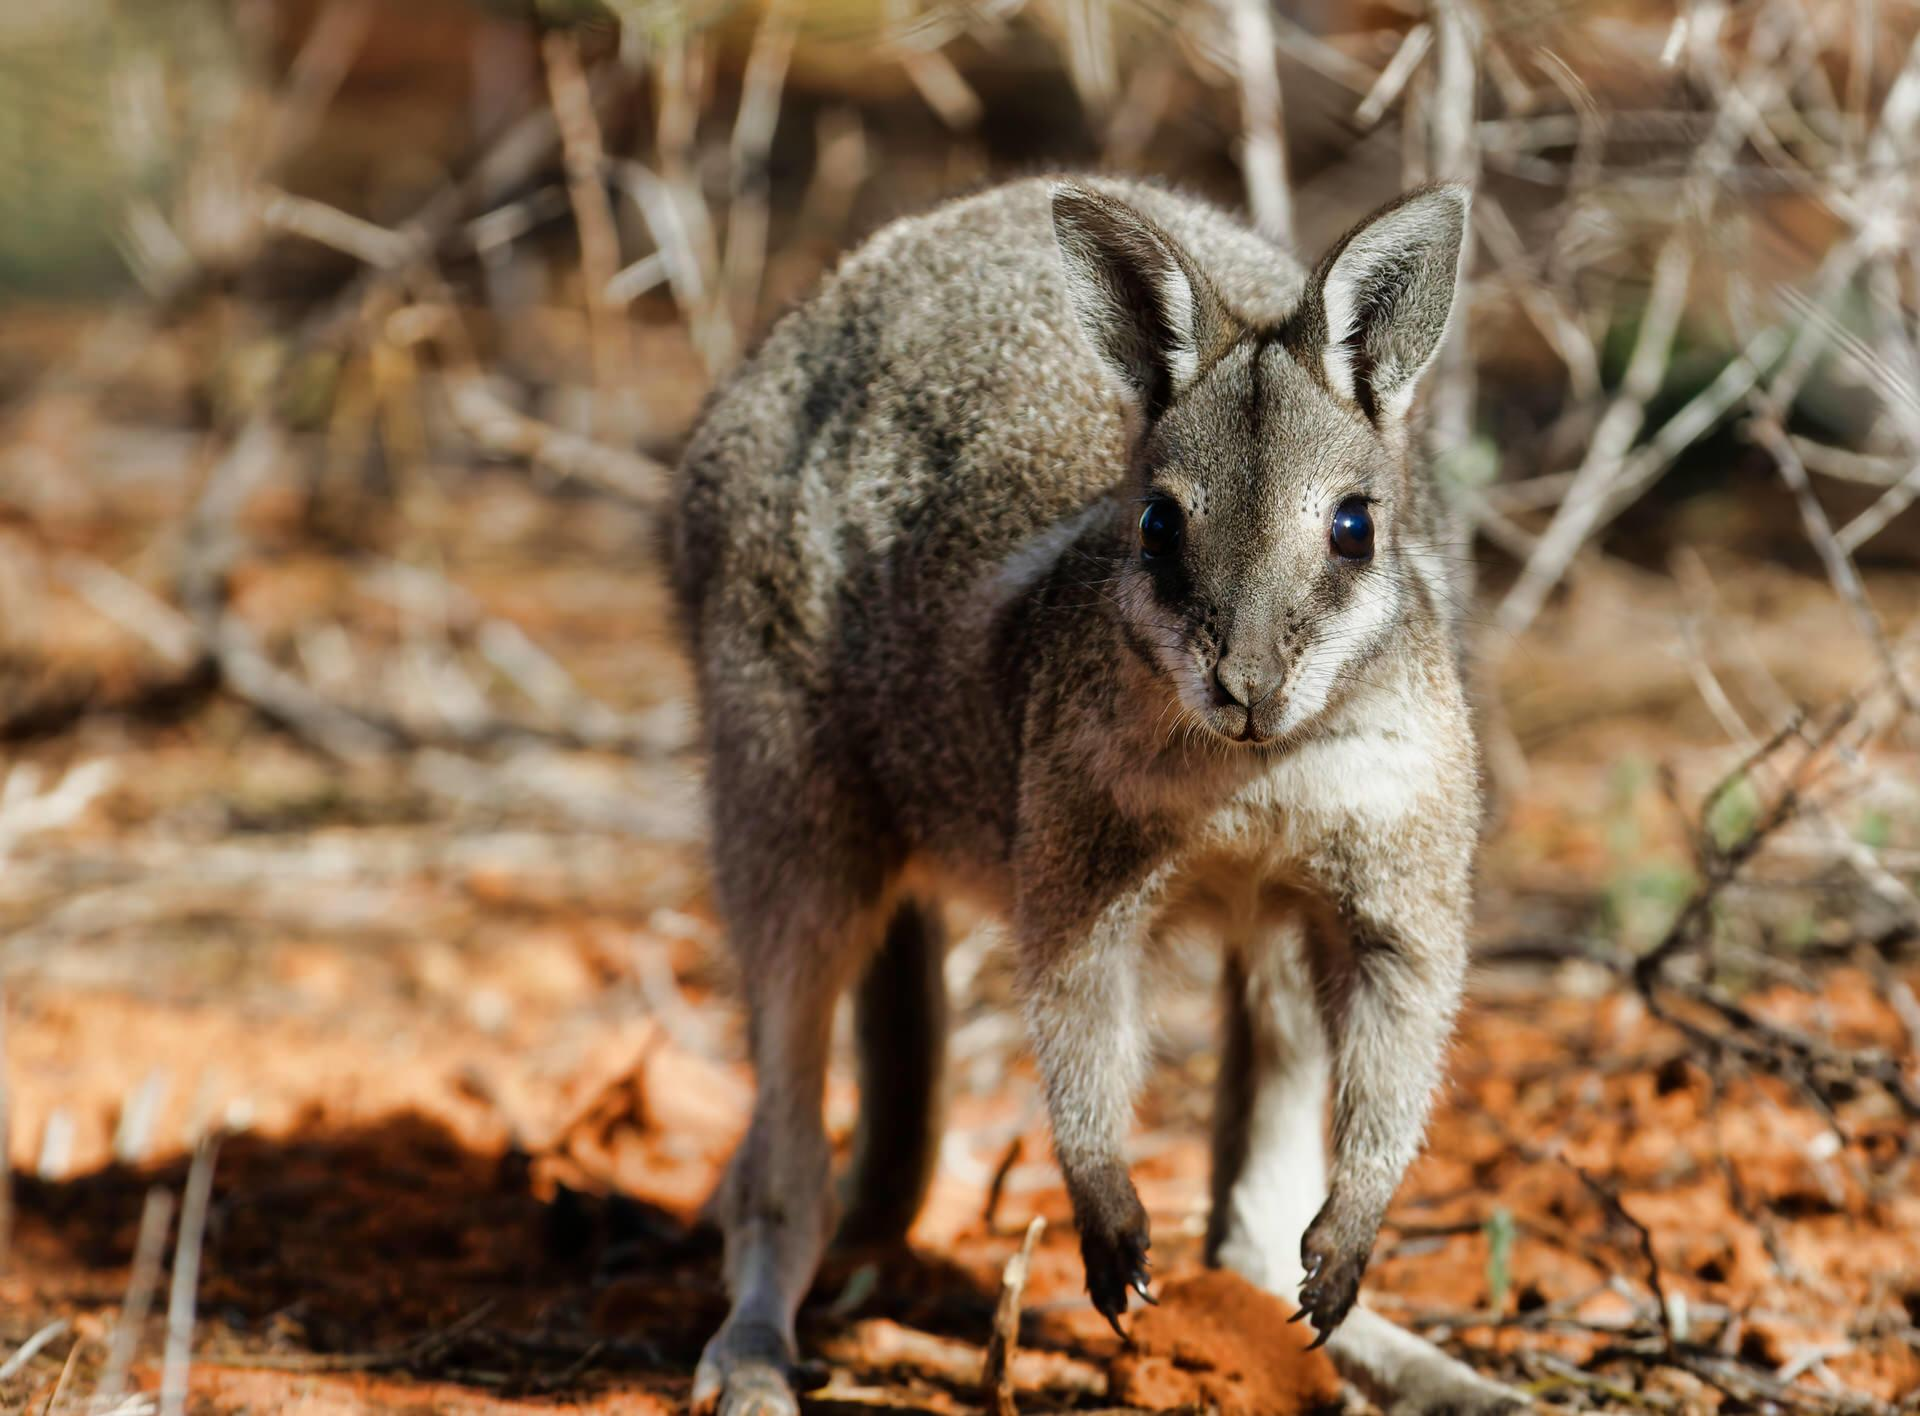Bridled-nail-tail wallaby: (578, 162, 1552, 1416)
